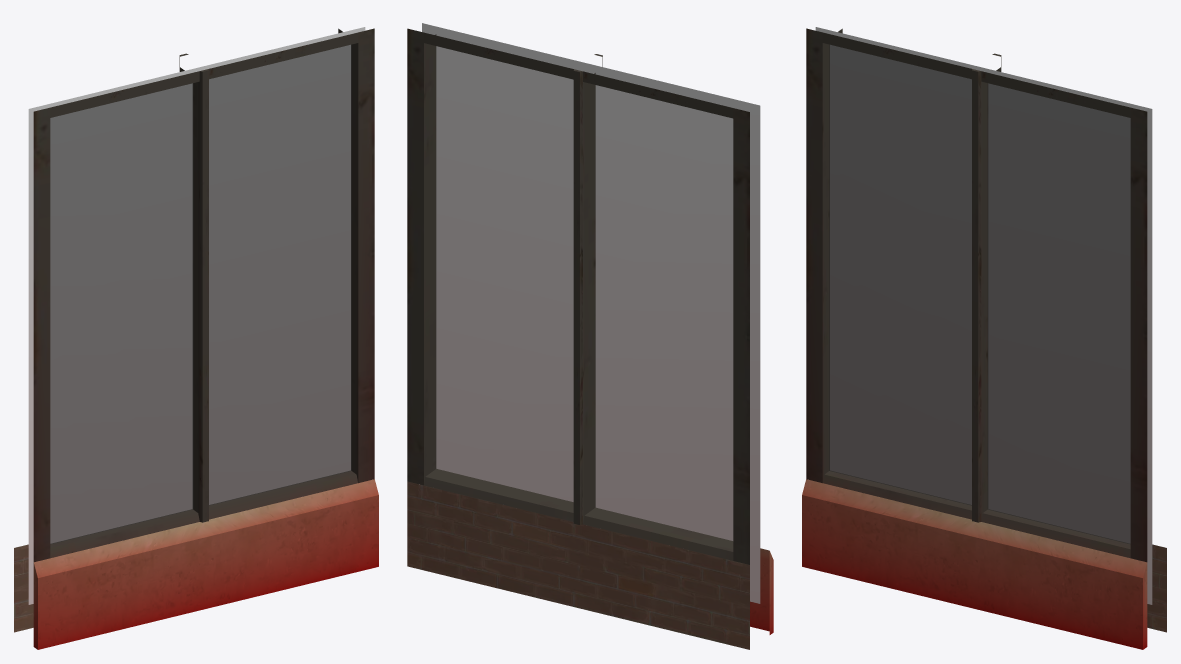
Rendered from Metal_FirstFloor_Window.glb.
3 views of the same model, side by side, from view 1: azimuth 30°, elevation 25°; view 2: azimuth 150°, elevation 25°; view 3: azimuth 330°, elevation 25° (orthographic).
Parts seen in each view (by area): view 1: Metal_FirstFloor_Window; view 2: Metal_FirstFloor_Window; view 3: Metal_FirstFloor_Window.
Part boxes in pixels (x1,y1,x2,y2): Metal_FirstFloor_Window: (14, 27, 378, 649); Metal_FirstFloor_Window: (407, 23, 773, 649); Metal_FirstFloor_Window: (802, 27, 1166, 649).
Size of the model in its own units: 2 by 3 by 0.2588.
Materials: 5 (3 with a texture image).
